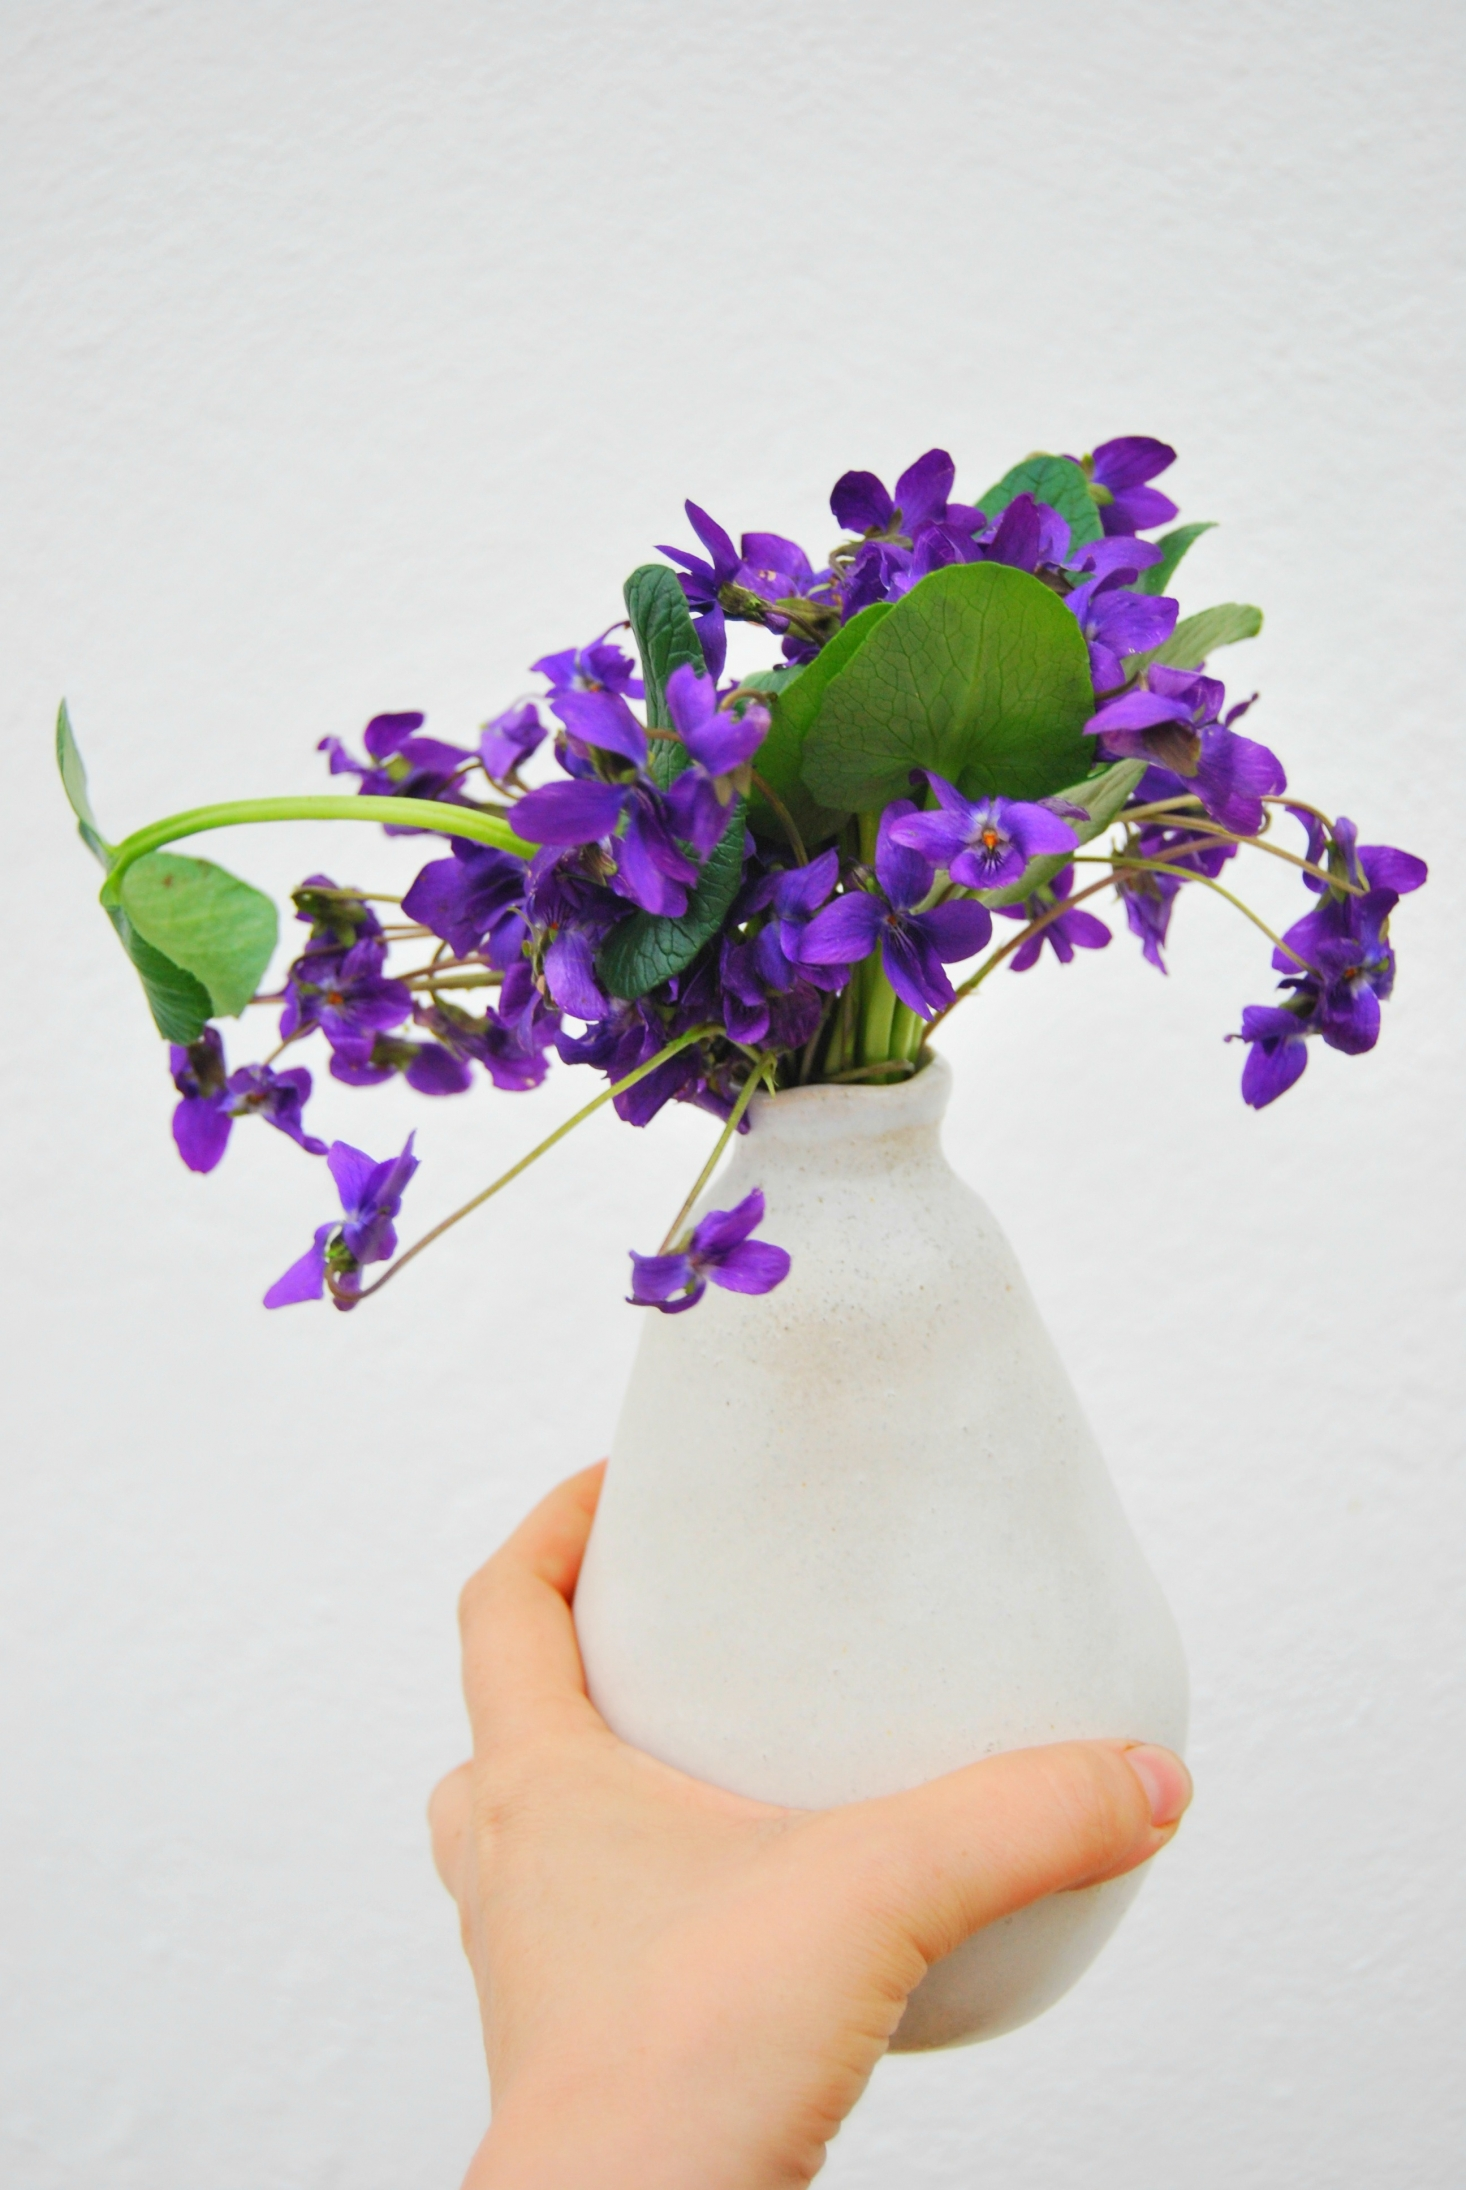violet: (213, 456, 1440, 1281)
